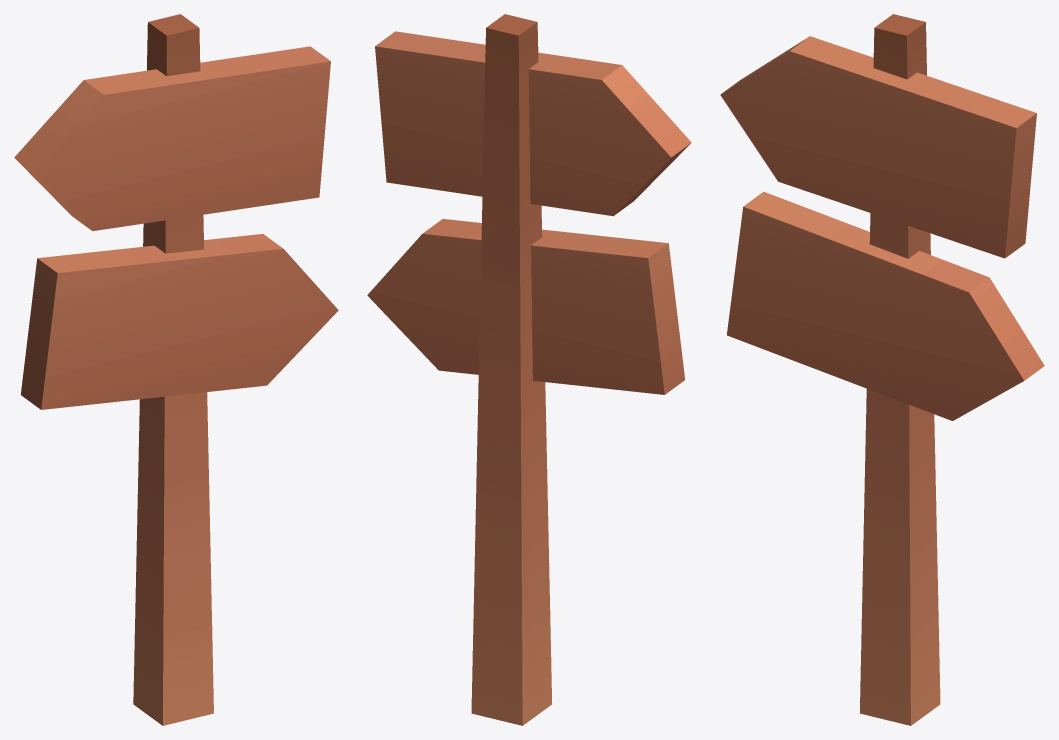
The model's file is k-survival-signpost.glb.
3 views of the same model, side by side, from view 1: azimuth 30°, elevation 25°; view 2: azimuth 150°, elevation 25°; view 3: azimuth 330°, elevation 25° (orthographic).
Visible parts, largest first — view 1: signpost; view 2: signpost; view 3: signpost.
Boxes of the visible parts, x1,y1,x2,y2 form: signpost: (14,14,338,725); signpost: (367,14,691,725); signpost: (720,14,1044,725).
Size of the model in its own units: 0.2141 by 0.4601 by 0.043.
1 material, 1 textured.
